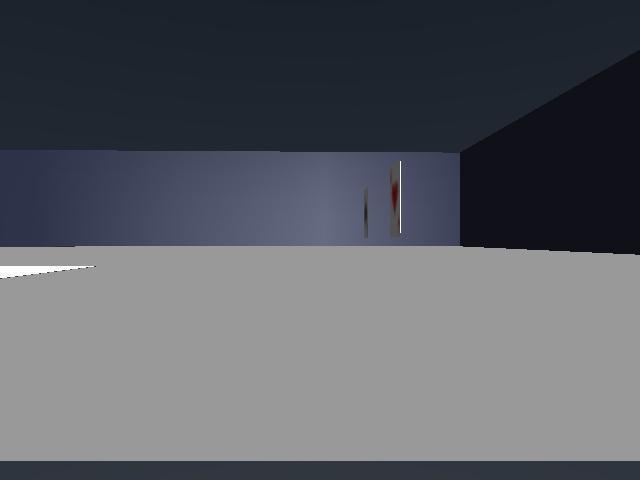club: (364, 187, 367, 237)
diamond: (390, 161, 401, 237)
